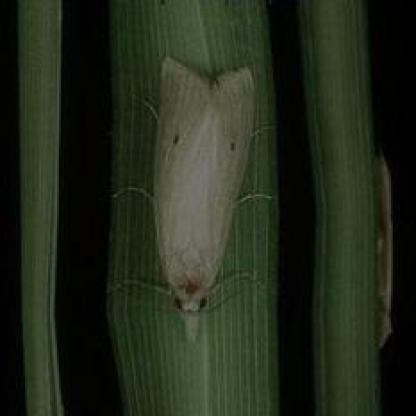stem-borer: (116, 55, 269, 344)
